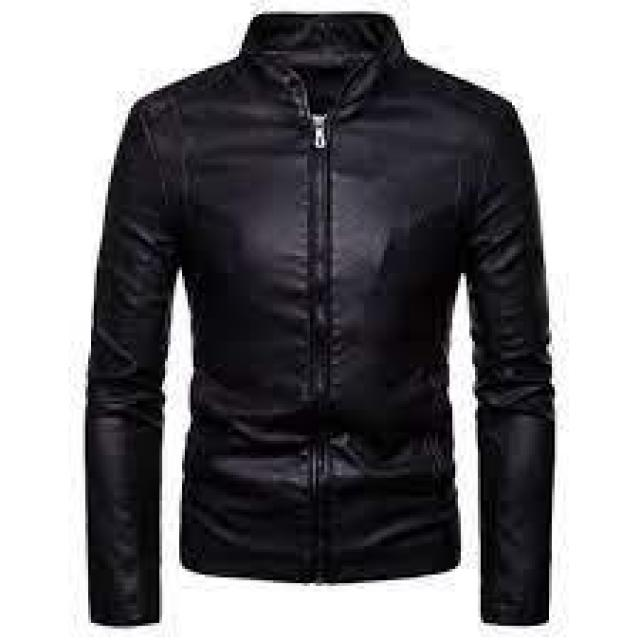jacket: (78, 6, 562, 632)
